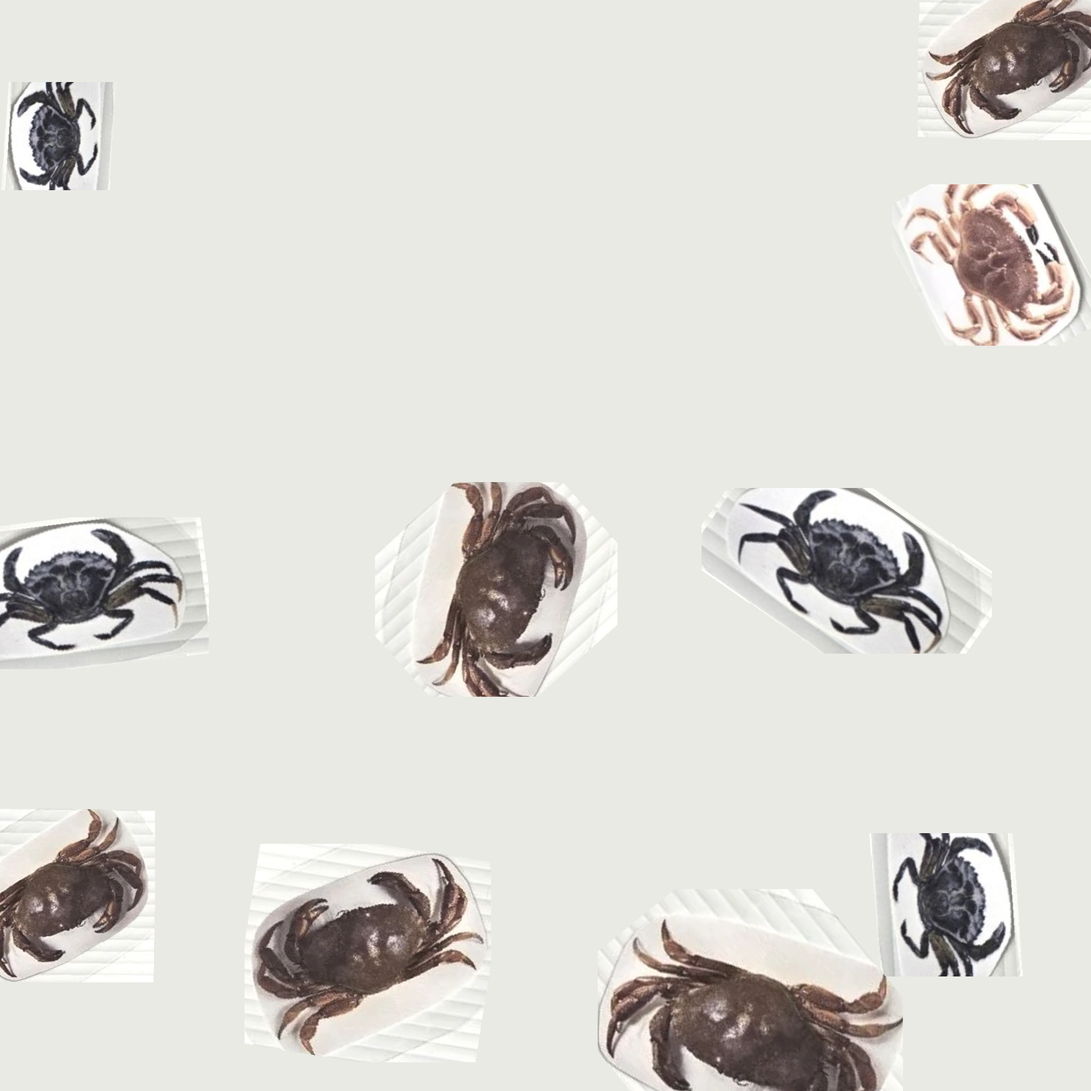evil: (701, 489, 982, 658), (2, 529, 212, 660), (869, 836, 1026, 984), (9, 74, 112, 198)
normal: (570, 910, 907, 1088), (243, 843, 495, 1057), (391, 479, 605, 701), (895, 188, 1084, 343), (3, 808, 159, 989), (913, 0, 1091, 140)
